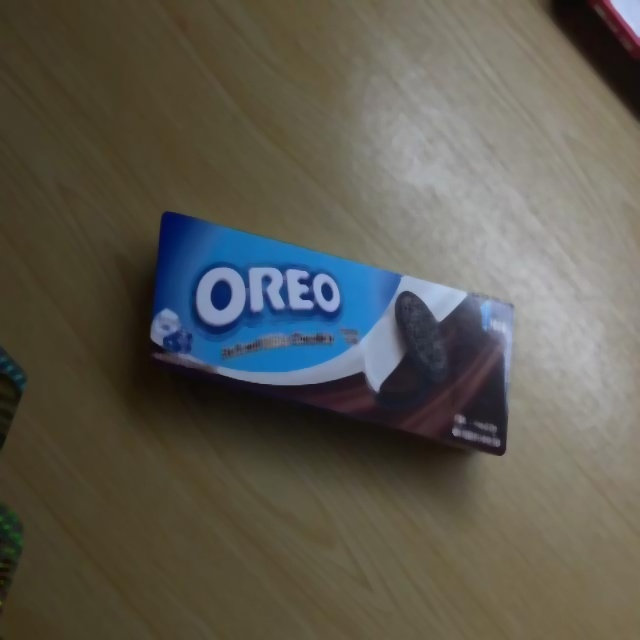Oreo: (145, 208, 514, 458)
